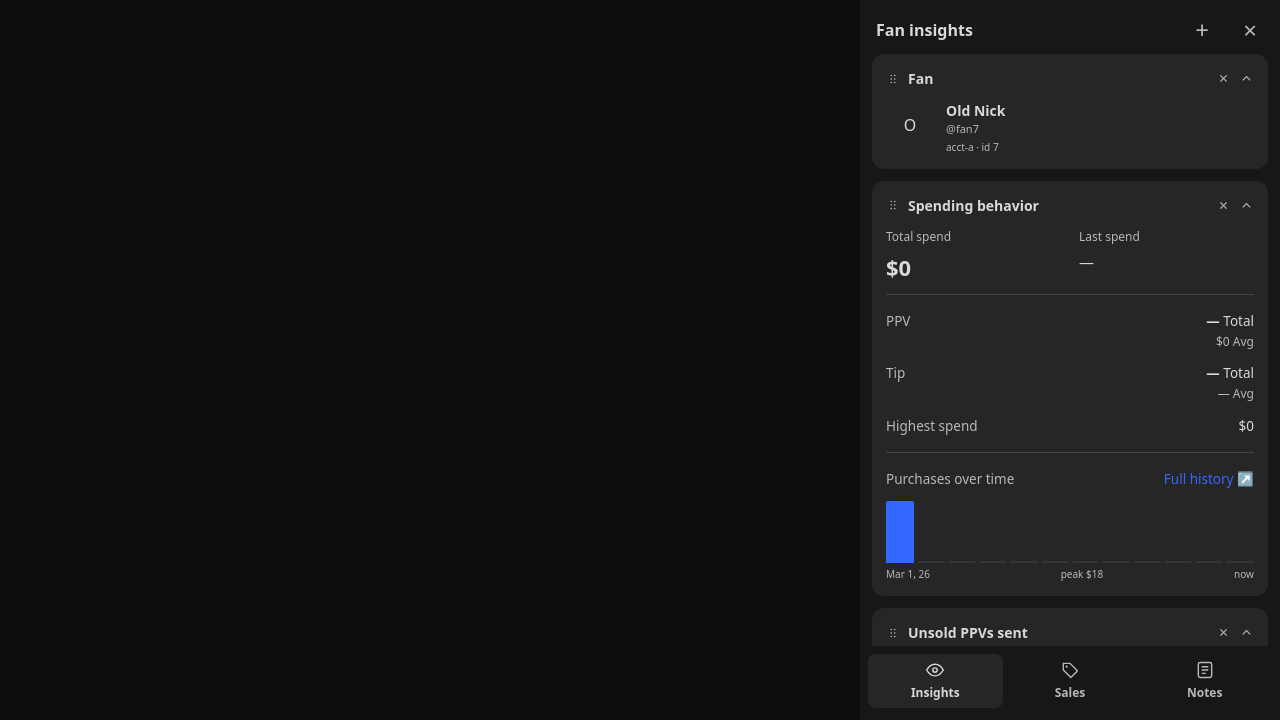
Test case: Fan insights Sales tab › a seeded purchase shows its date, gross, net and sender in the Sales table, and Buy rate, Highest and Lowest price read —
Click the tab "Sales" at (1070, 681), box [1003, 654, 1137, 708]
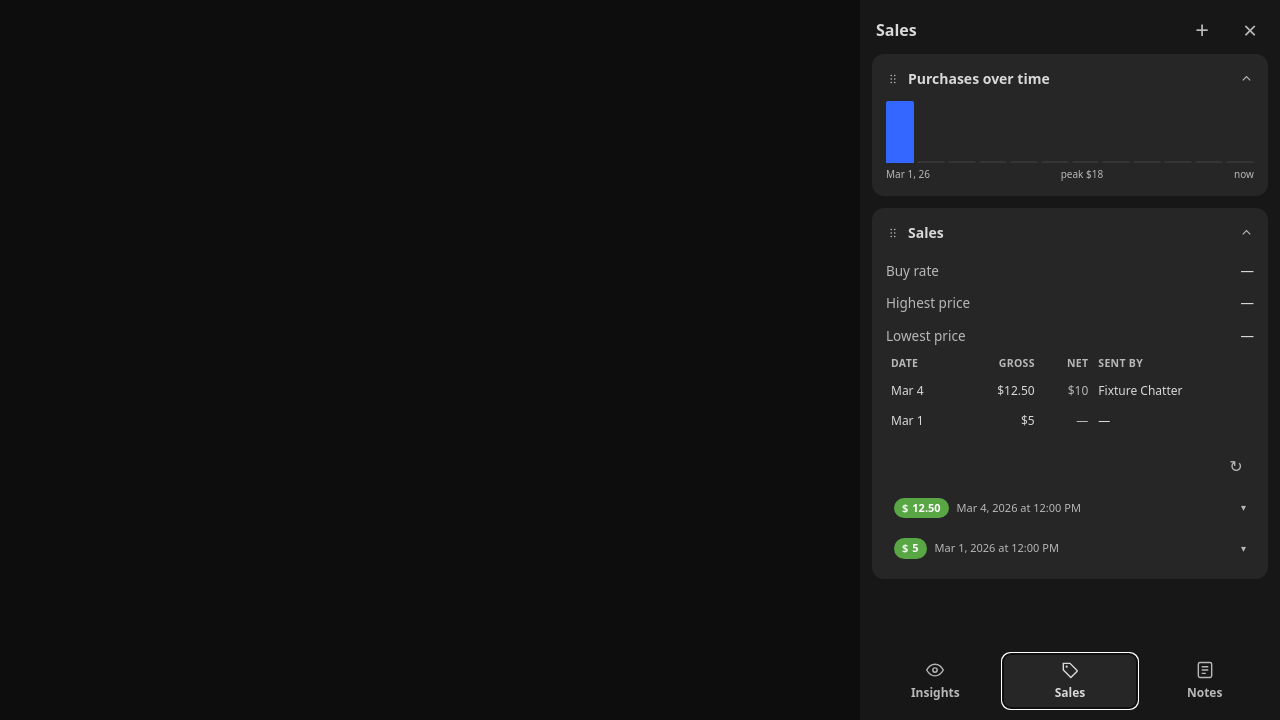
Result: the column headings read "Date", "Gross", "Net", "Sent by", in this order at [886, 352, 959, 376]; [959, 352, 1040, 376]; [1040, 352, 1093, 376]; [1093, 352, 1254, 376]
Result: the cells read "Mar 4", "$12.50", "$10", "Fixture Chatter", in this order at [886, 376, 959, 406]; [959, 376, 1040, 406]; [1040, 376, 1093, 406]; [1093, 376, 1254, 406]
Result: the cells read "Mar 1", "$5", "—", "—", in this order at [886, 406, 959, 436]; [959, 406, 1040, 436]; [1040, 406, 1093, 436]; [1093, 406, 1254, 436]
